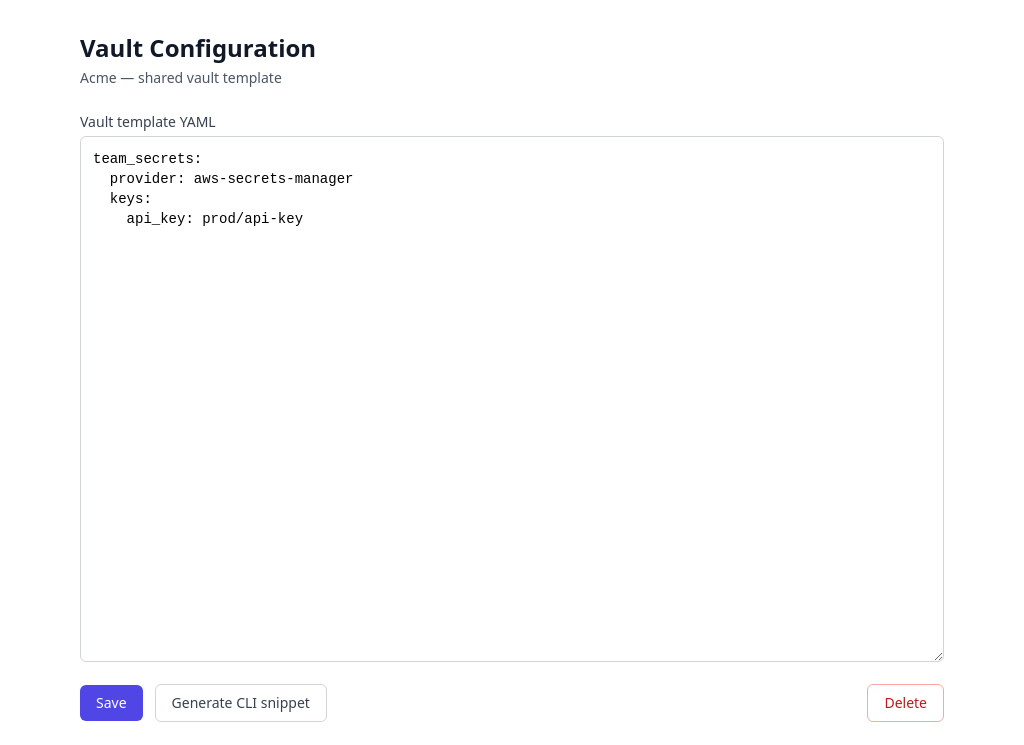
Test: vault-config page › folds backend warnings into the success toast
The image size is (1024, 745).
Step 1. Click the button with test id "vault-save-button" → (111, 703), box [80,685,143,721]
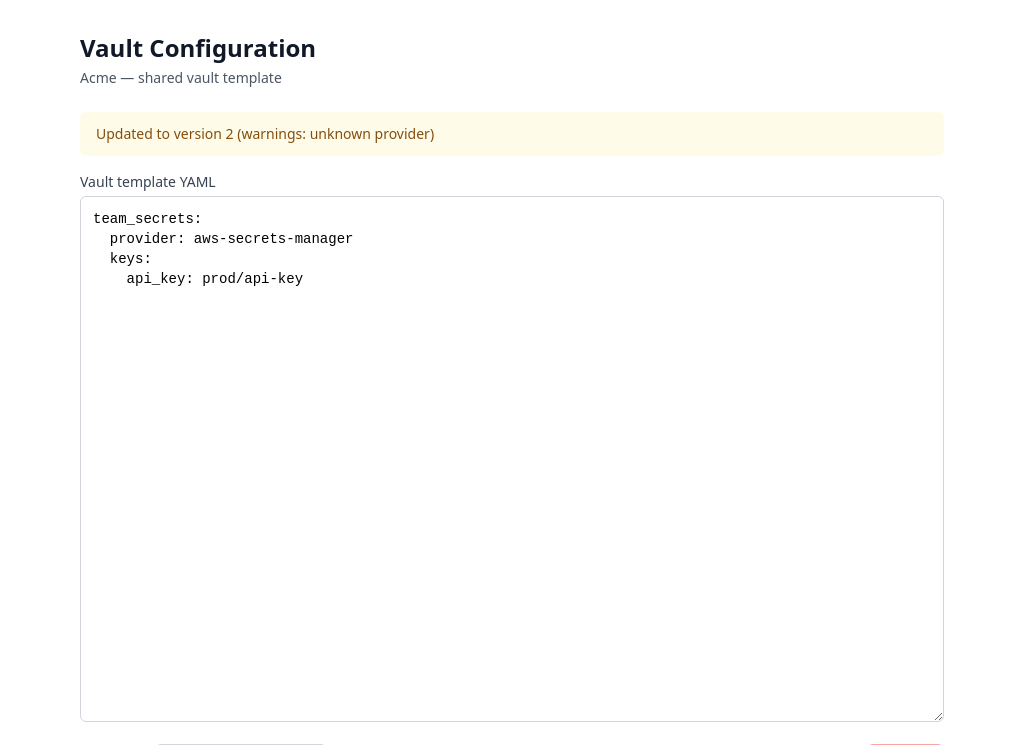
Expected: the text "Updated to version 2 (warnings: unknown provider)" is shown, [80,112,944,156]
